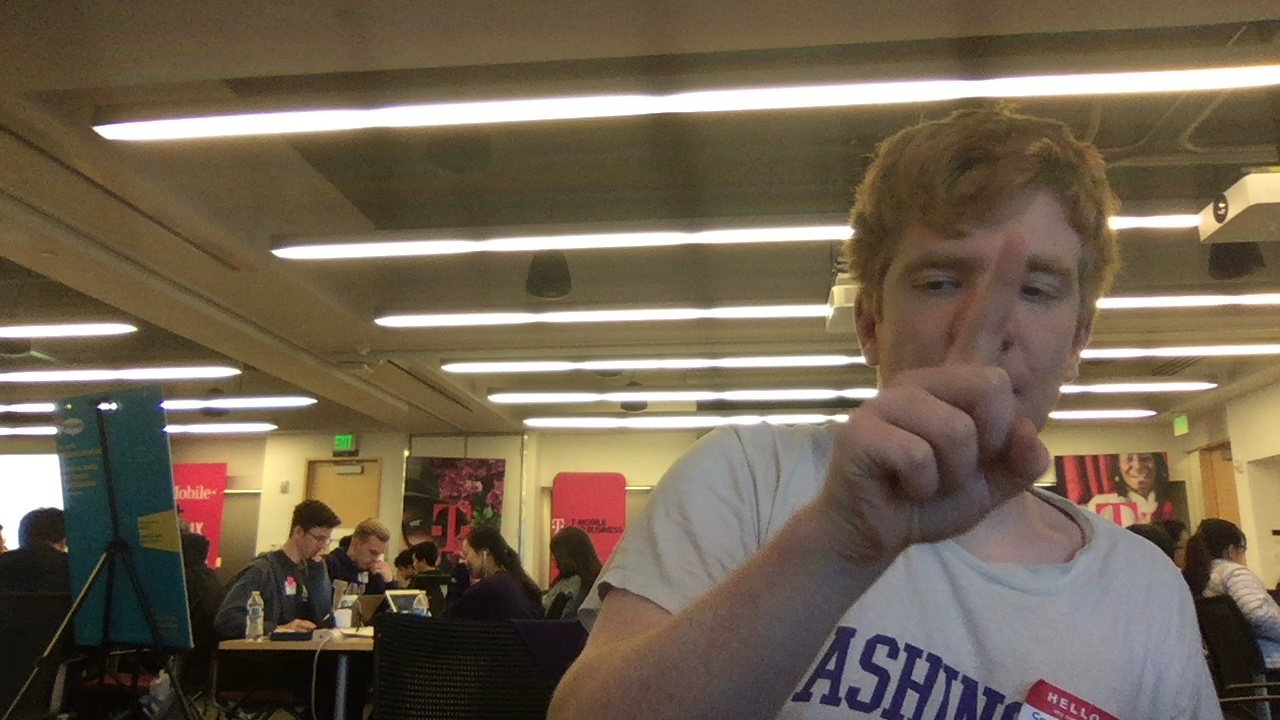index: (831, 231, 1053, 552)
